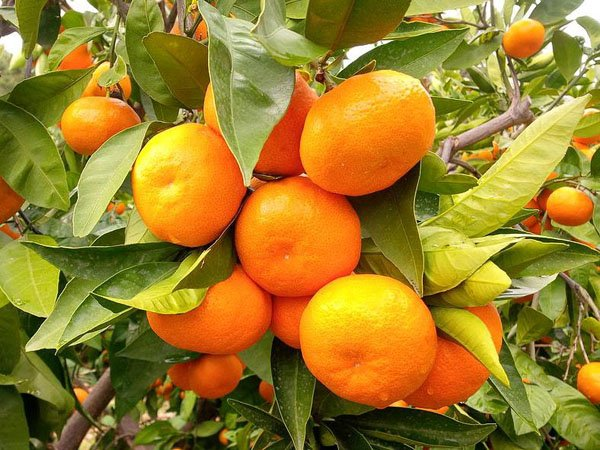portakal: (127, 111, 243, 257), (490, 16, 569, 76), (551, 180, 600, 238)
